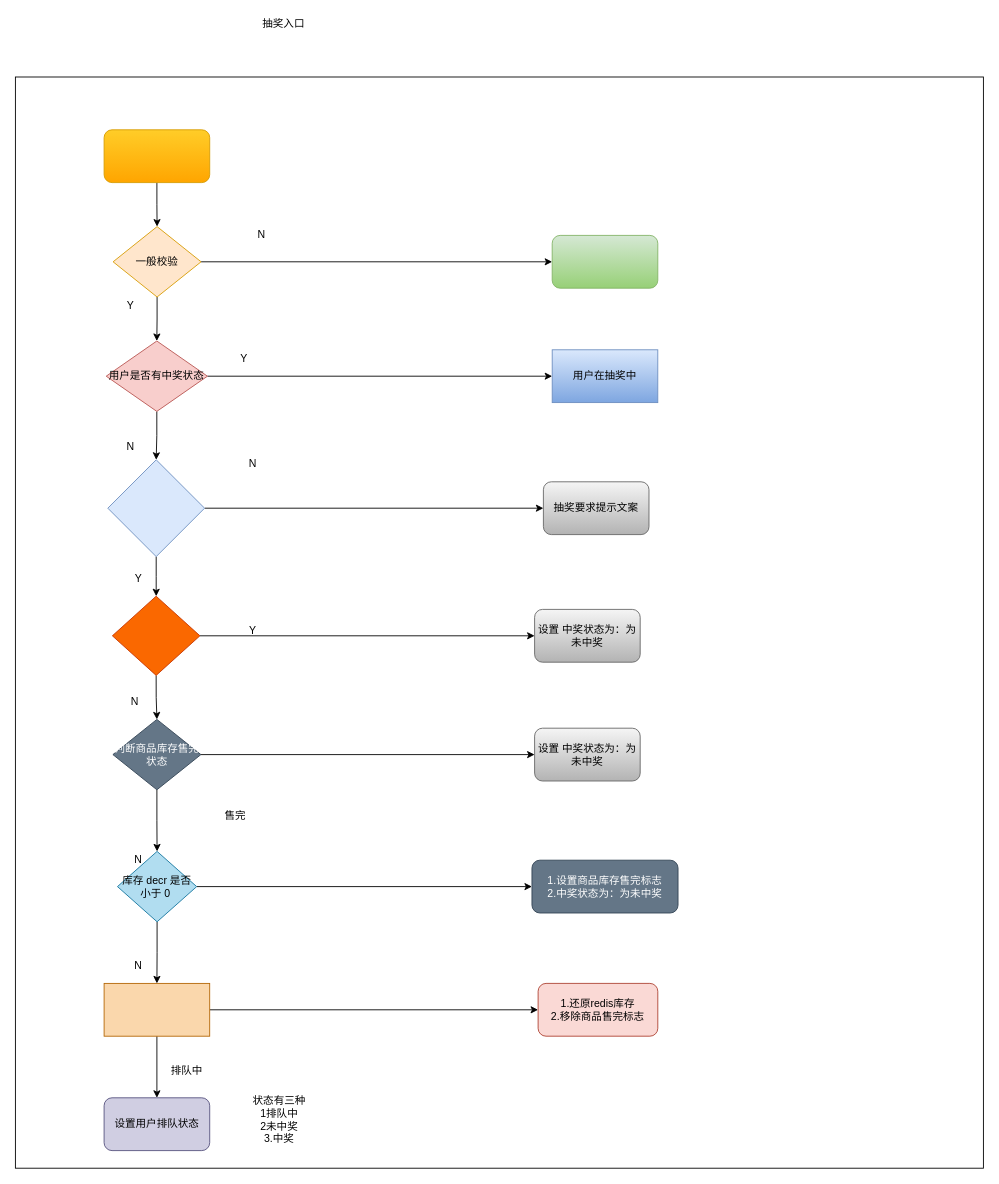
Some shapes in this 999 by 1184 pixel diagram are drawn without their labels. The box of each missing label's shape, as (x1, y1, x2, y2) in pixels:
MQ异步下单: (103, 983, 210, 1036)
判断用户中奖次数是否达到上限: (111, 595, 200, 675)
是否满足商品对应的用户池: (107, 459, 205, 557)
用户抽奖: (103, 129, 210, 183)
用户登录才能抽奖 用户商品ID有误等: (551, 235, 658, 288)
